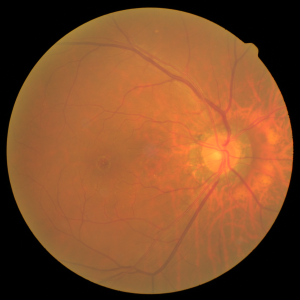healthy_eye: (111, 90, 273, 203)
